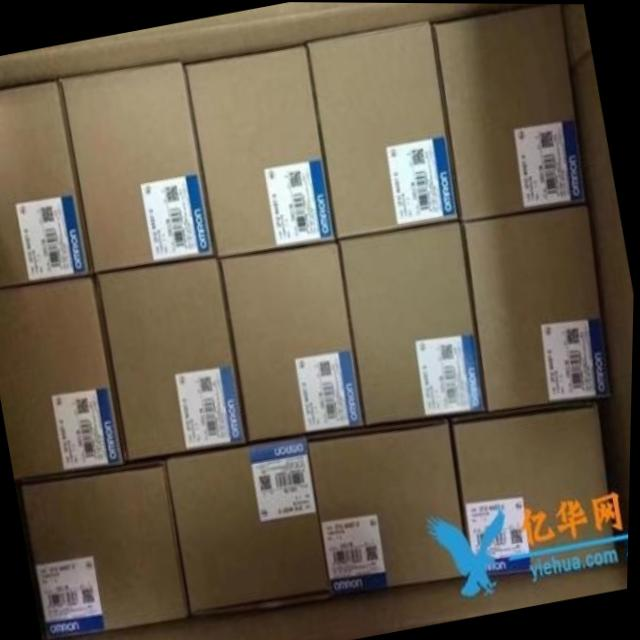box: (434, 3, 588, 220), (310, 20, 458, 238), (63, 63, 216, 272), (186, 45, 336, 256), (464, 202, 614, 409), (168, 436, 334, 620), (100, 256, 248, 461), (219, 242, 366, 444), (22, 465, 189, 640), (340, 223, 486, 423), (311, 422, 474, 598), (457, 408, 622, 578), (0, 274, 127, 481), (0, 80, 93, 287)
